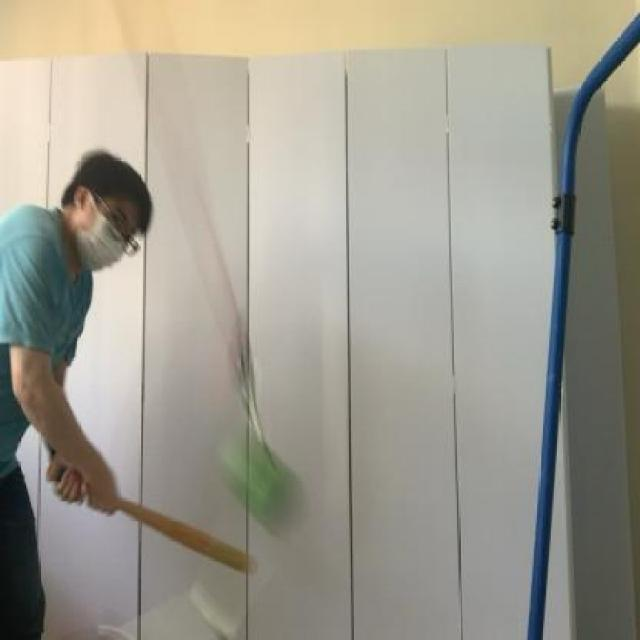baseball: (212, 421, 300, 532)
